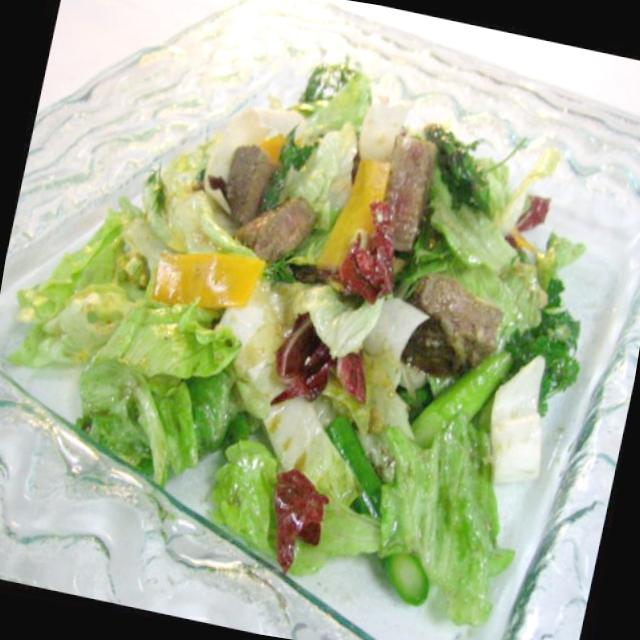Green Salad: (30, 33, 624, 620)
